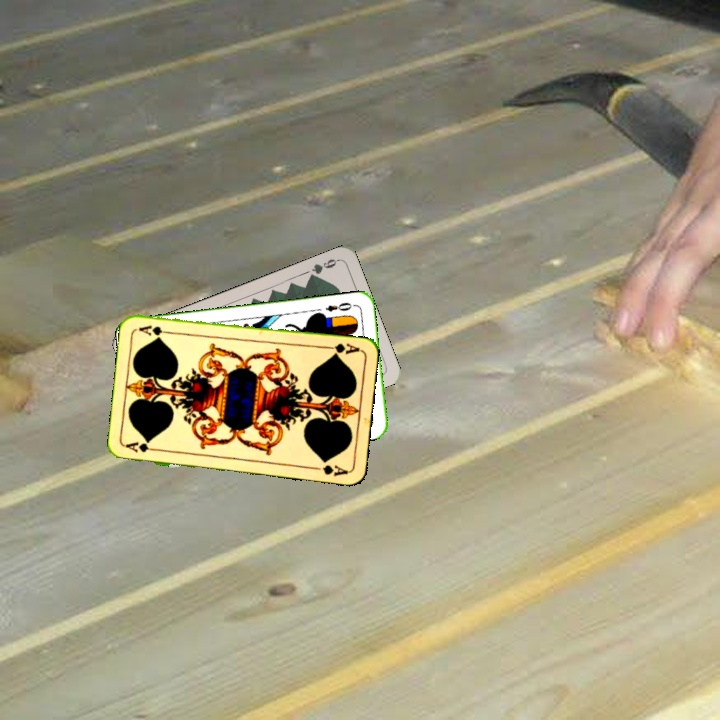EO: (321, 298, 354, 314)
G9: (305, 255, 341, 282)
GA: (322, 339, 362, 358), (122, 438, 162, 455)
